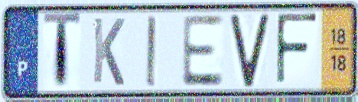E: (179, 13, 226, 90)
F: (274, 11, 320, 89)
I: (144, 13, 159, 89)
K: (90, 15, 126, 88)
T: (41, 10, 83, 94)
V: (228, 11, 272, 90)
